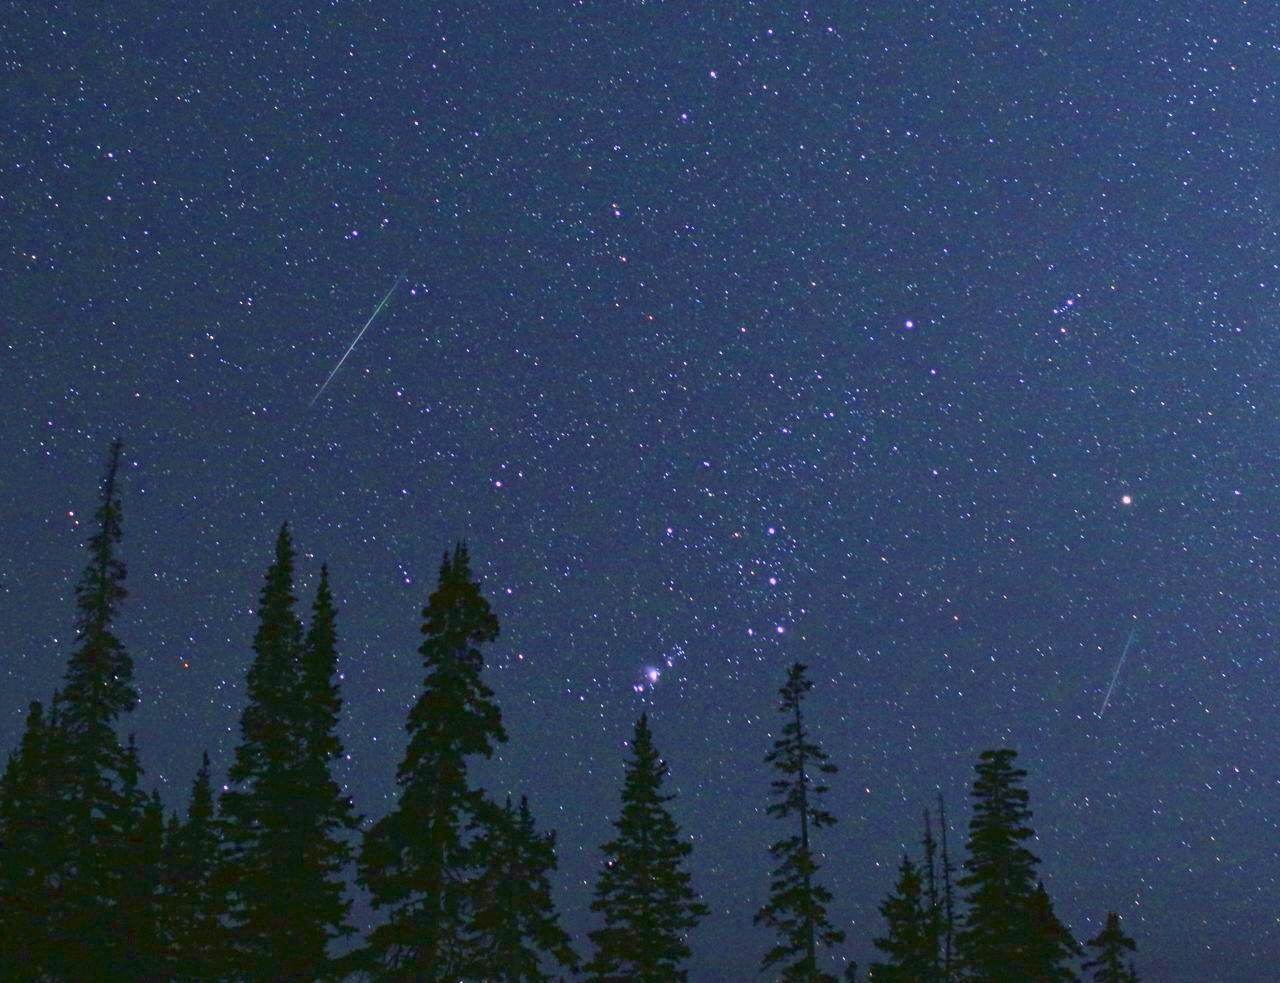meteorite: (300, 269, 407, 415), (1084, 612, 1156, 732)
